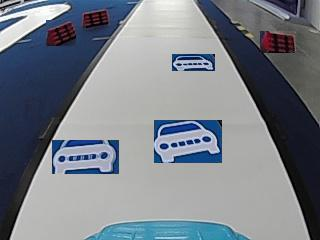bomb: (83, 8, 108, 26)
